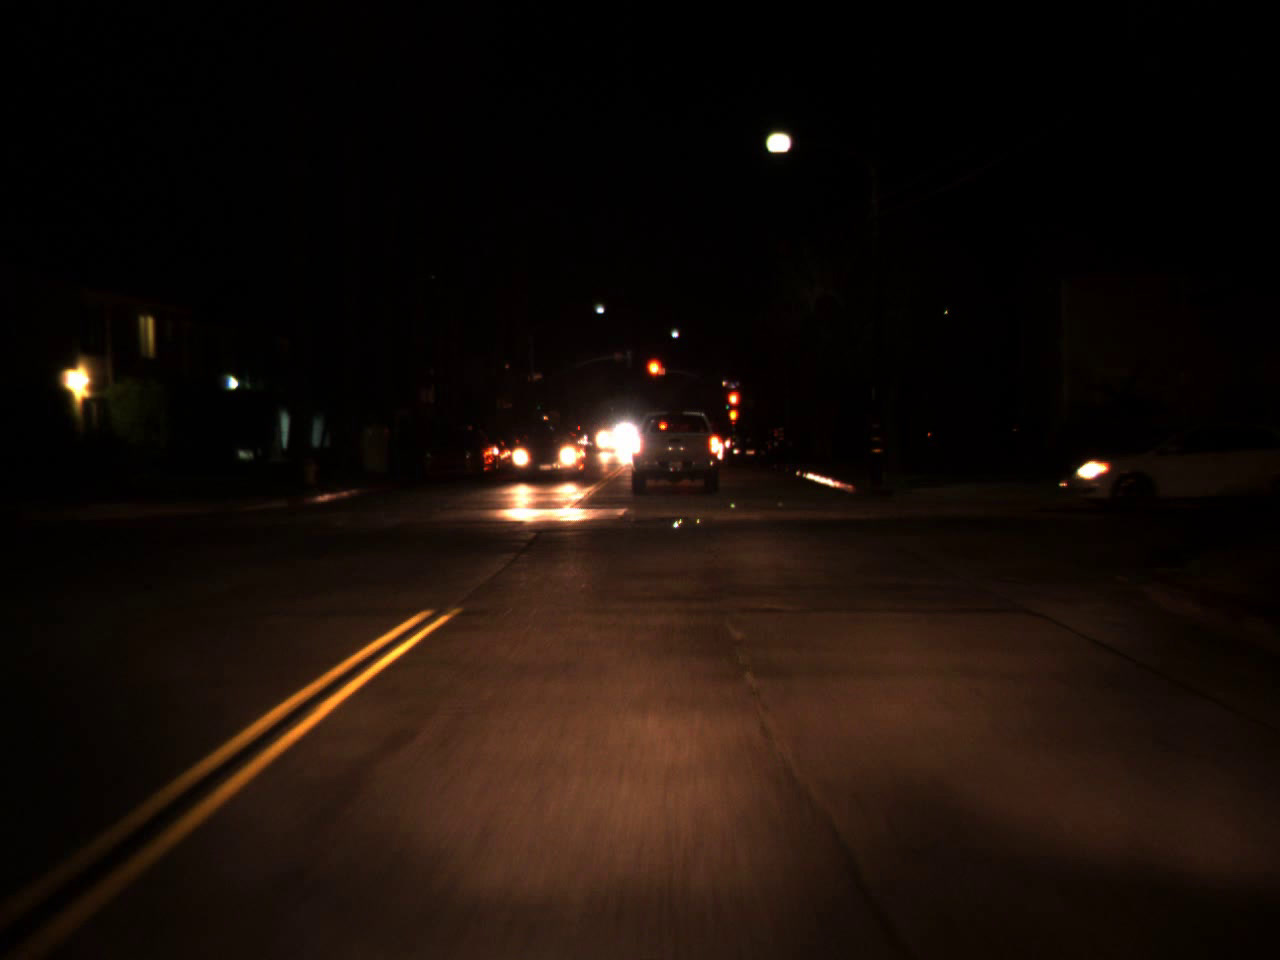stop: (645, 359, 661, 391), (725, 389, 740, 421)
